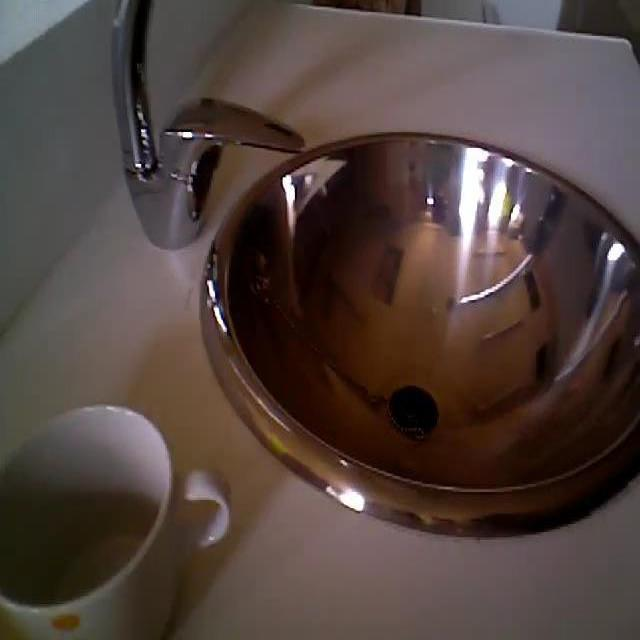cup: (0, 388, 233, 640)
